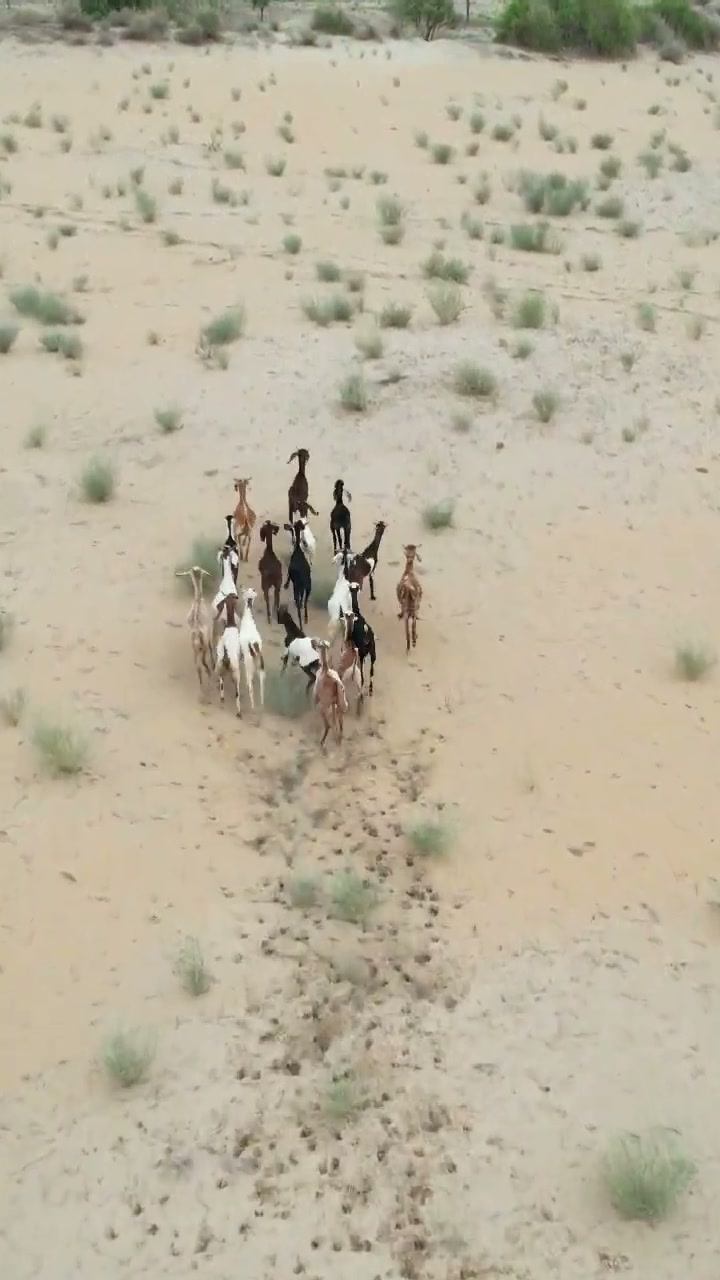animal_foot_print: (33, 690, 630, 1277)
